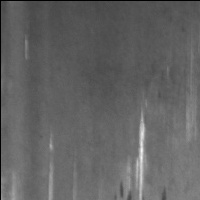scratches: (133, 107, 148, 200), (45, 131, 56, 200)
